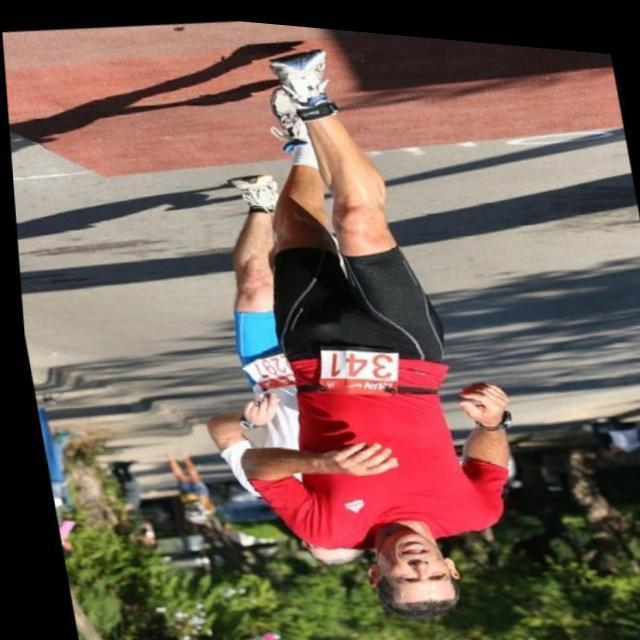dorsal: (309, 332, 402, 402), (233, 346, 290, 390)
